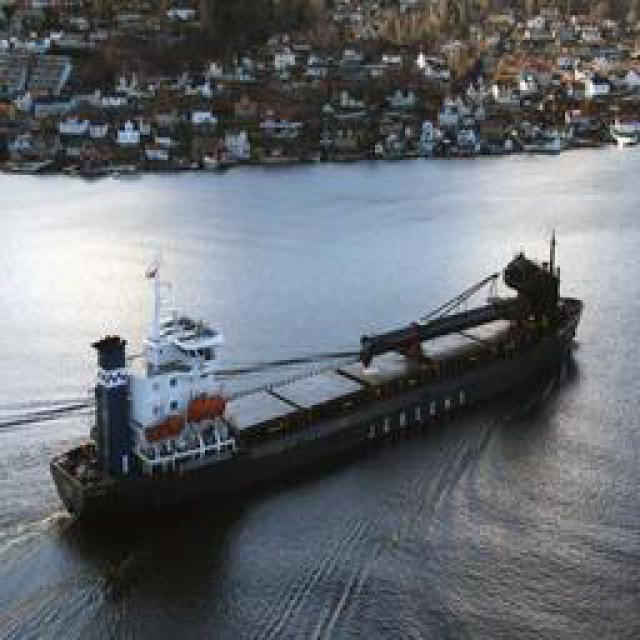Ship: (68, 245, 583, 515)
